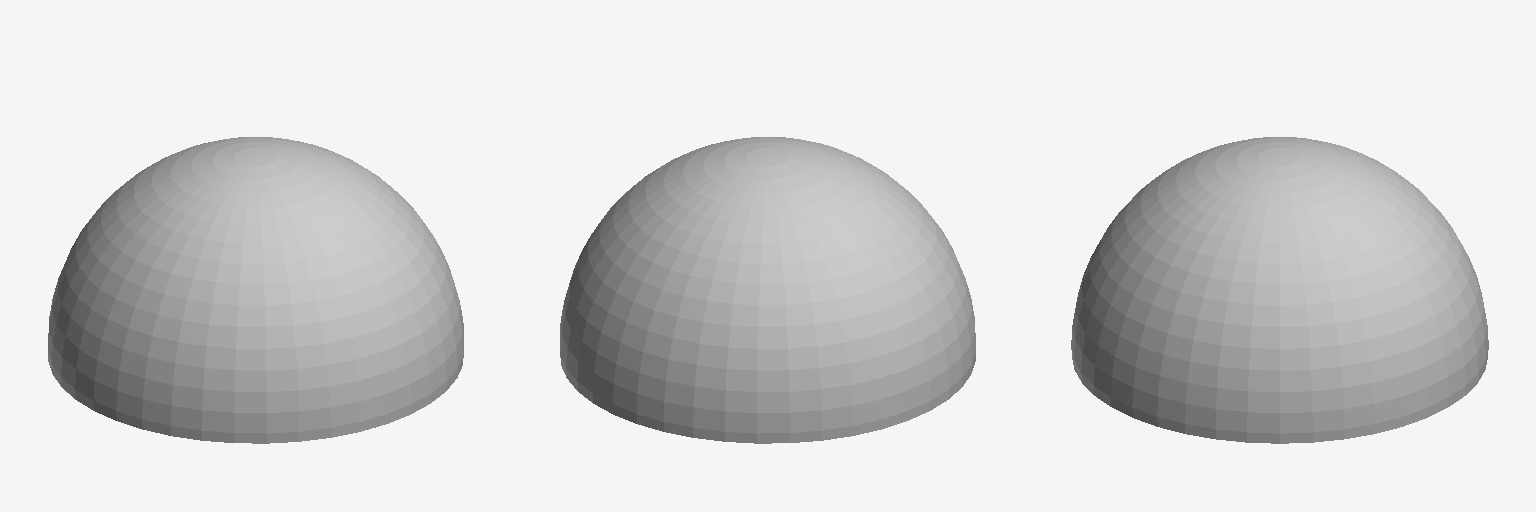
File: halfsphere_14cm.obj
3 views of the same model, side by side, from view 1: azimuth 30°, elevation 25°; view 2: azimuth 150°, elevation 25°; view 3: azimuth 270°, elevation 25° (orthographic).
Parts seen in each view (by area): view 1: Sphere_Sphere.001; view 2: Sphere_Sphere.001; view 3: Sphere_Sphere.001.
Part boxes in pixels (bbox=[...]): Sphere_Sphere.001: bbox=[48, 137, 463, 443]; Sphere_Sphere.001: bbox=[560, 137, 975, 443]; Sphere_Sphere.001: bbox=[1071, 137, 1488, 443].
Bounding box in the file's own units: 0.28 × 0.1477 × 0.28.